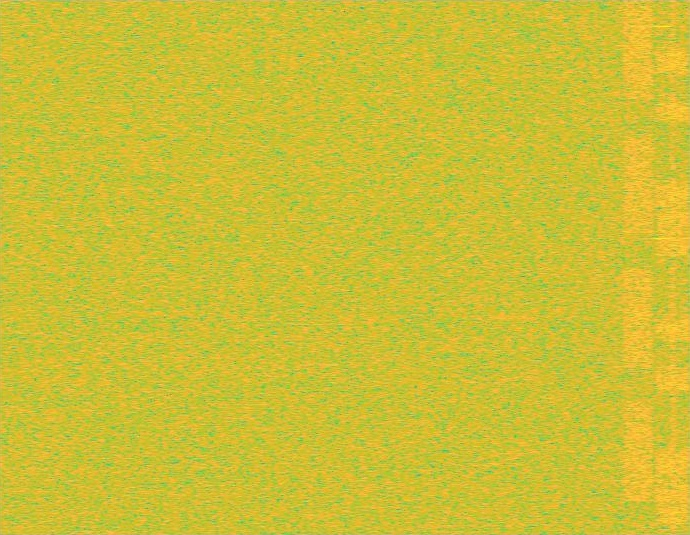5G: (621, 0, 656, 534)
DSSS: (670, 0, 675, 534)
LTE: (656, 0, 689, 534)
Radar: (656, 0, 670, 534)
